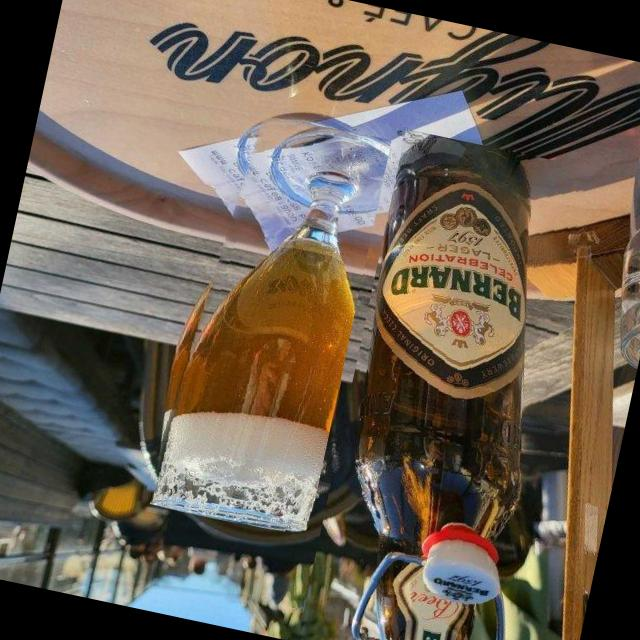Glass: (295, 127, 590, 640), (140, 102, 390, 536)
